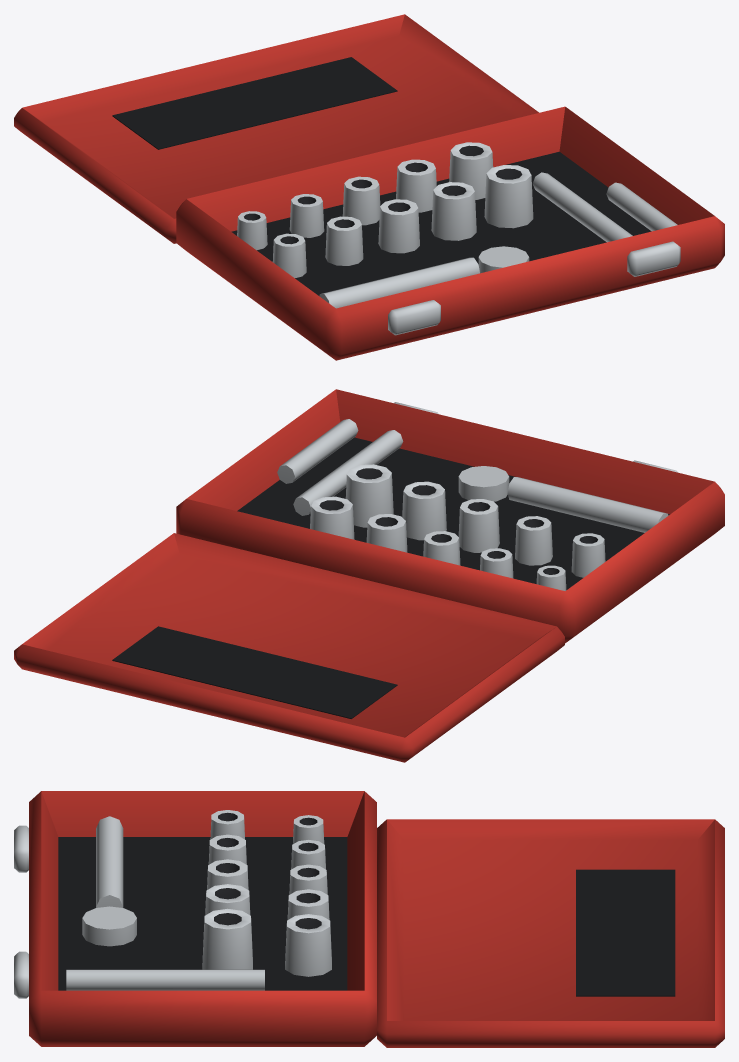
File: SM_SocketSet_Case_01.glb
3 renders of one model, top to bottom at view 1: azimuth 30°, elevation 25°; view 2: azimuth 150°, elevation 25°; view 3: azimuth 270°, elevation 25°, orthographic. The views are drawn at different scales.
Visible parts, largest first — view 1: SM_SocketSet_Case_01; view 2: SM_SocketSet_Case_01; view 3: SM_SocketSet_Case_01.
Boxes of the visible parts, box(x1,y1,x2,y2) form: SM_SocketSet_Case_01: box(14, 14, 724, 360); SM_SocketSet_Case_01: box(14, 389, 724, 762); SM_SocketSet_Case_01: box(14, 791, 724, 1047).
Bounding box in the file's own units: 0.4 × 0.0575 × 0.572.
Materials: 1 (1 with a texture image).
